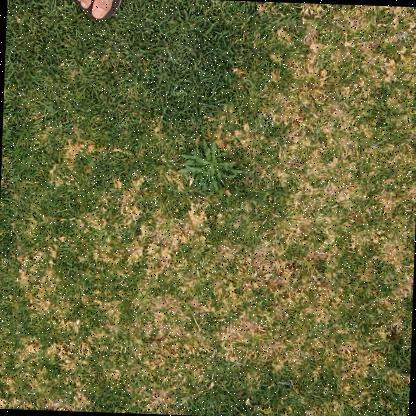Weeds: (178, 139, 244, 200)
